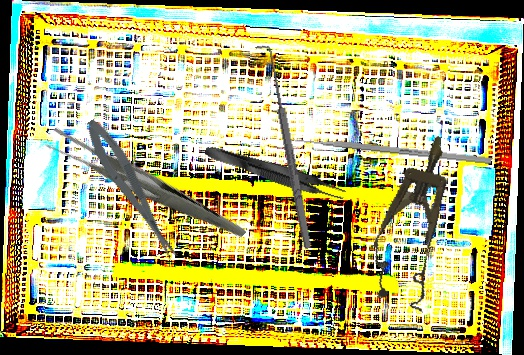Dressing Forceps: (41, 84, 247, 290)
Hook Surgical: (255, 43, 315, 251)
Micro Scissor: (78, 113, 184, 267)
Pusher: (278, 134, 492, 165)
Speculum: (359, 127, 471, 313)
Tissue Forceps: (202, 139, 348, 206)
